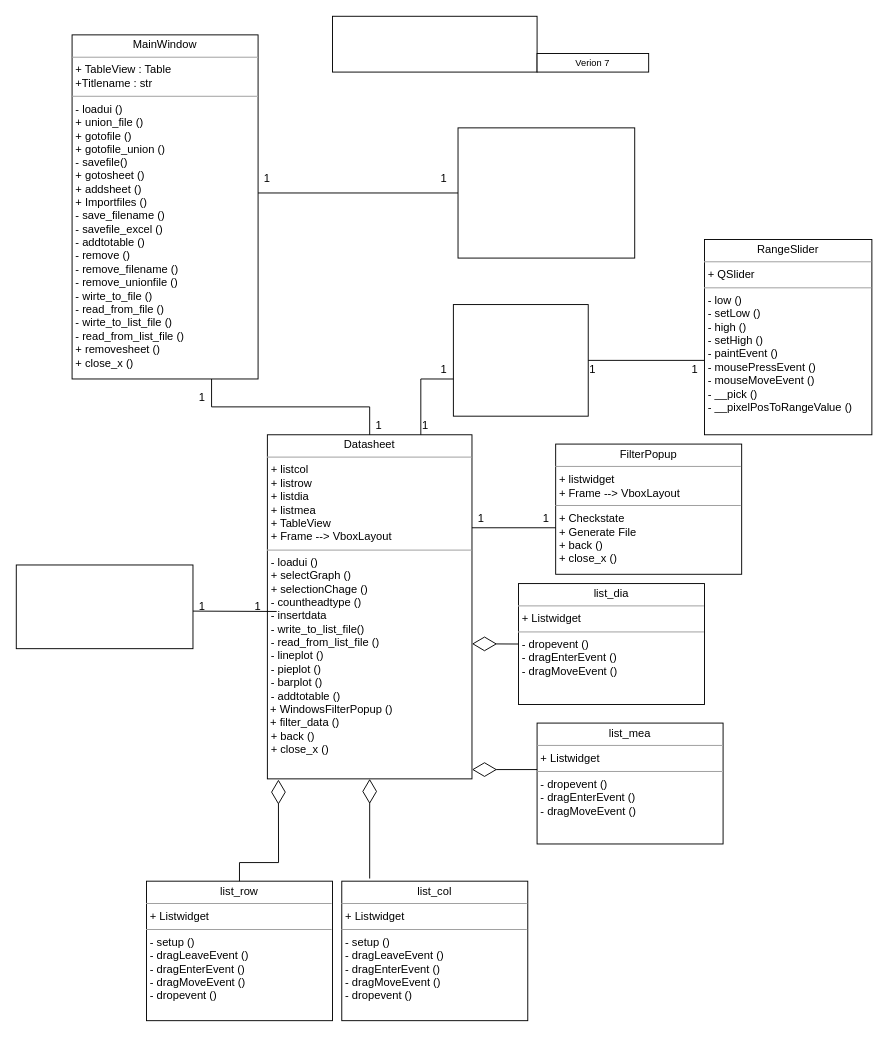
This 888x1037 diagram has some shape labels left out. Each missing label, with the box of its shape:
FilterPopup2 + listwidget + Frame --> VboxLayout + echo + back () + close_x (): (452, 304, 588, 416)
Pandasmodel - rowCount () - columnCount () - data () - Headerdata (): (457, 127, 635, 258)
Tableau Clone: (332, 15, 537, 72)
WebEngineView - onDownloadRequested () - createWindow () - updateChart (): (15, 564, 193, 649)
